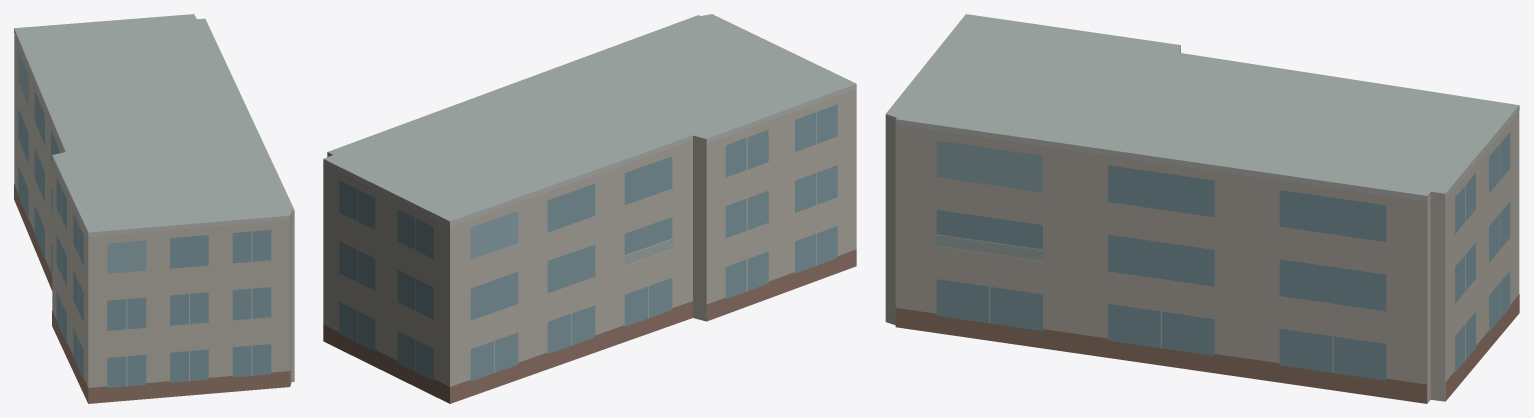
File: survey-upis-33026958.glb
3 views of the same model, side by side, from view 1: azimuth 30°, elevation 25°; view 2: azimuth 150°, elevation 25°; view 3: azimuth 270°, elevation 25° (orthographic). The views are drawn at different scales.
Parts seen in each view (by area): view 1: survey-upis-33026958.tmp; view 2: survey-upis-33026958.tmp; view 3: survey-upis-33026958.tmp.
Part boxes in pixels (x1,y1,x2,y2): survey-upis-33026958.tmp: (14, 14, 294, 403); survey-upis-33026958.tmp: (323, 14, 856, 403); survey-upis-33026958.tmp: (885, 14, 1519, 403).
Size of the model in its own units: 17.08 by 9.1 by 25.15.
